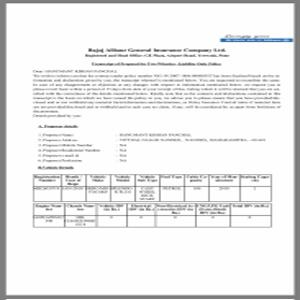table: (33, 174, 271, 202), (33, 204, 272, 228)
text: (31, 67, 283, 118), (34, 123, 266, 171), (82, 47, 231, 59), (86, 60, 224, 67)
